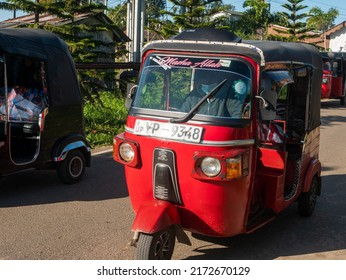threewheel: (111, 29, 322, 261), (1, 27, 91, 185), (319, 51, 346, 107)
